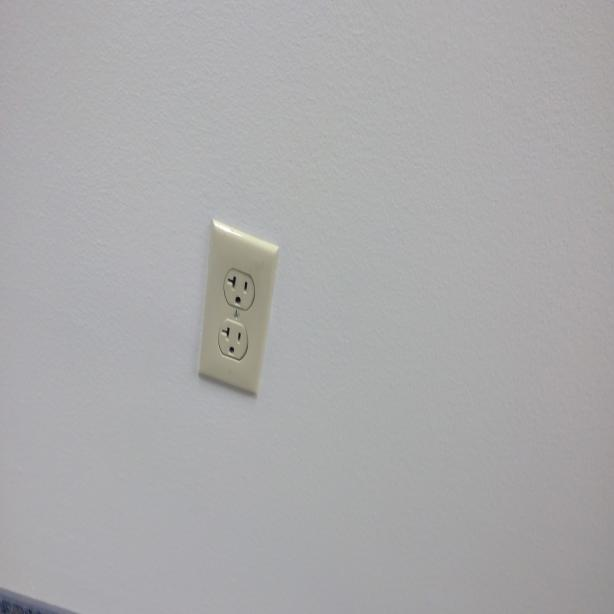typeb: (218, 318, 248, 360), (225, 268, 253, 306)
